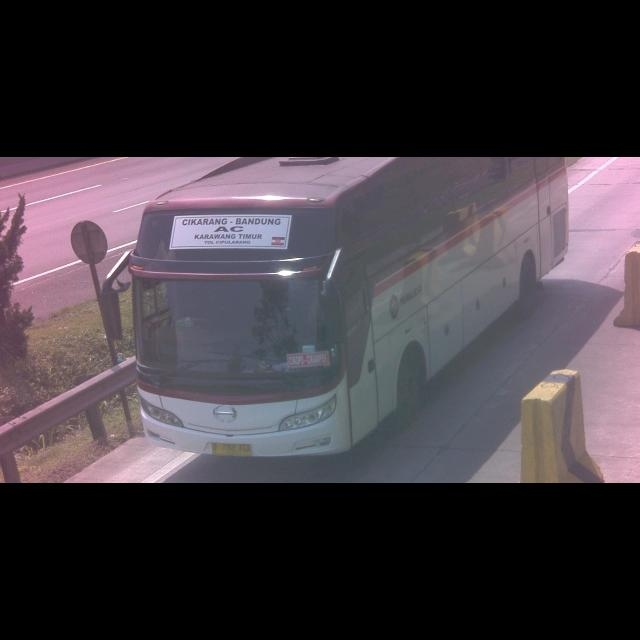plate: (210, 440, 253, 457)
